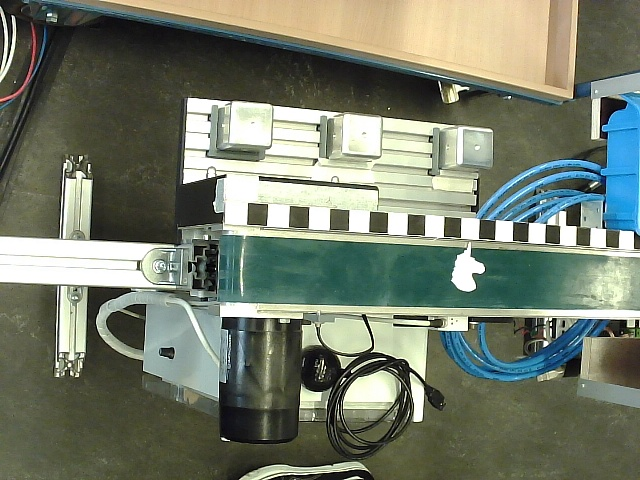unicorn: (451, 242, 486, 292)
